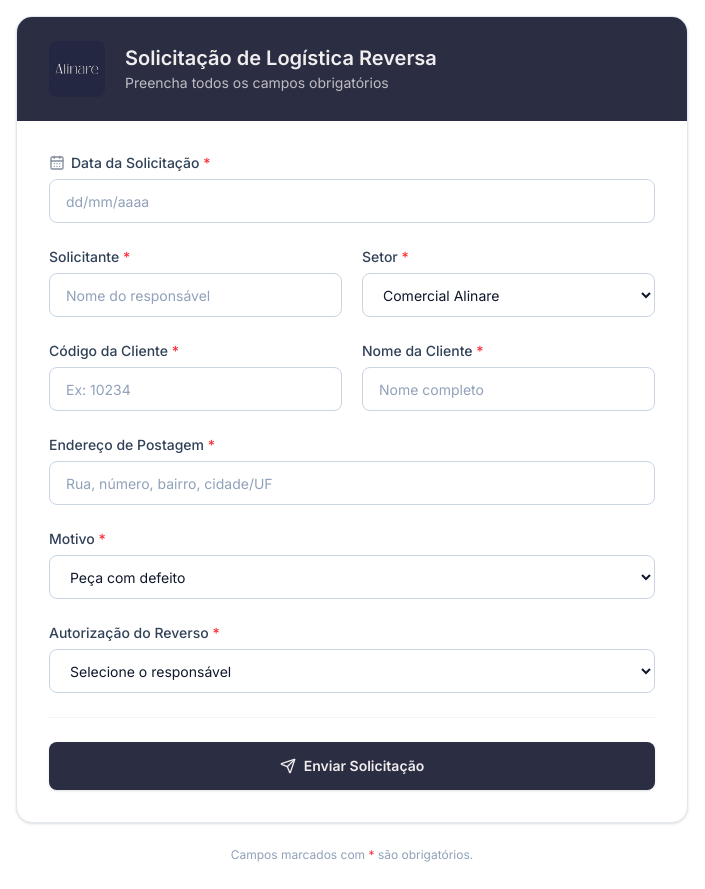
Test: ReverseLogisticsForm — validação › motivo diferente de "Outros": justificativa escondida
Select "Outros" in the dropdown labelled "Motivo *" at (352, 577), box [49,555,655,599]
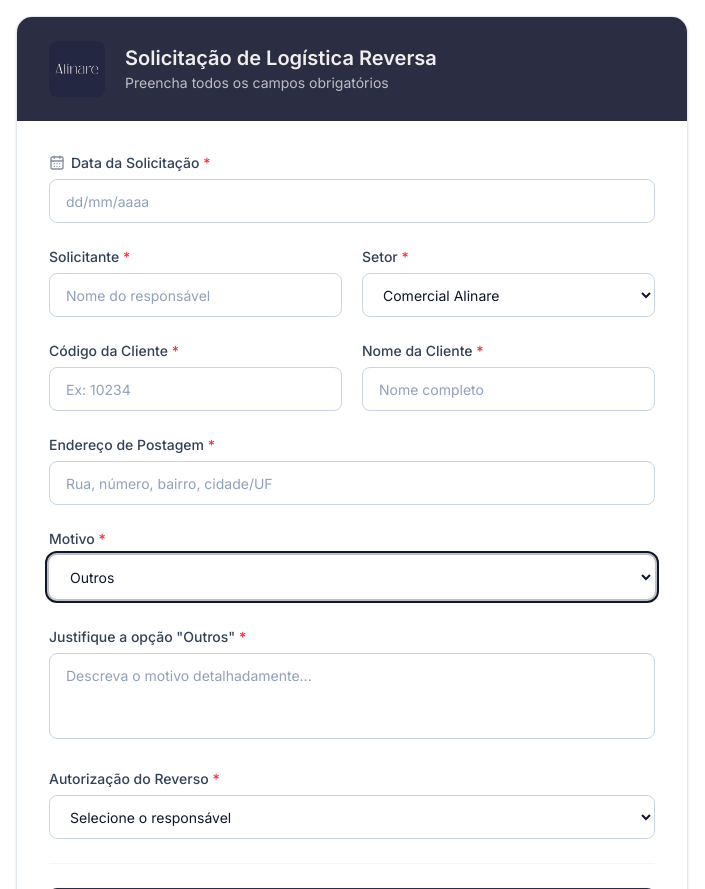
Select "Peça com defeito" in the dropdown labelled "Motivo *" at (352, 577), box [49,555,655,599]
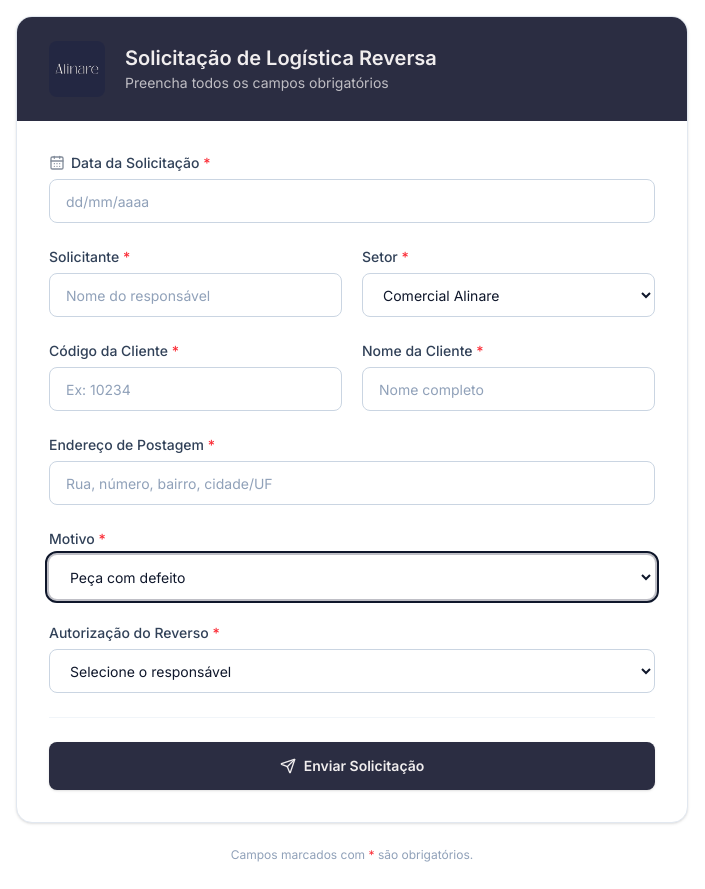
Now the label labelled "Justifique" is gone
